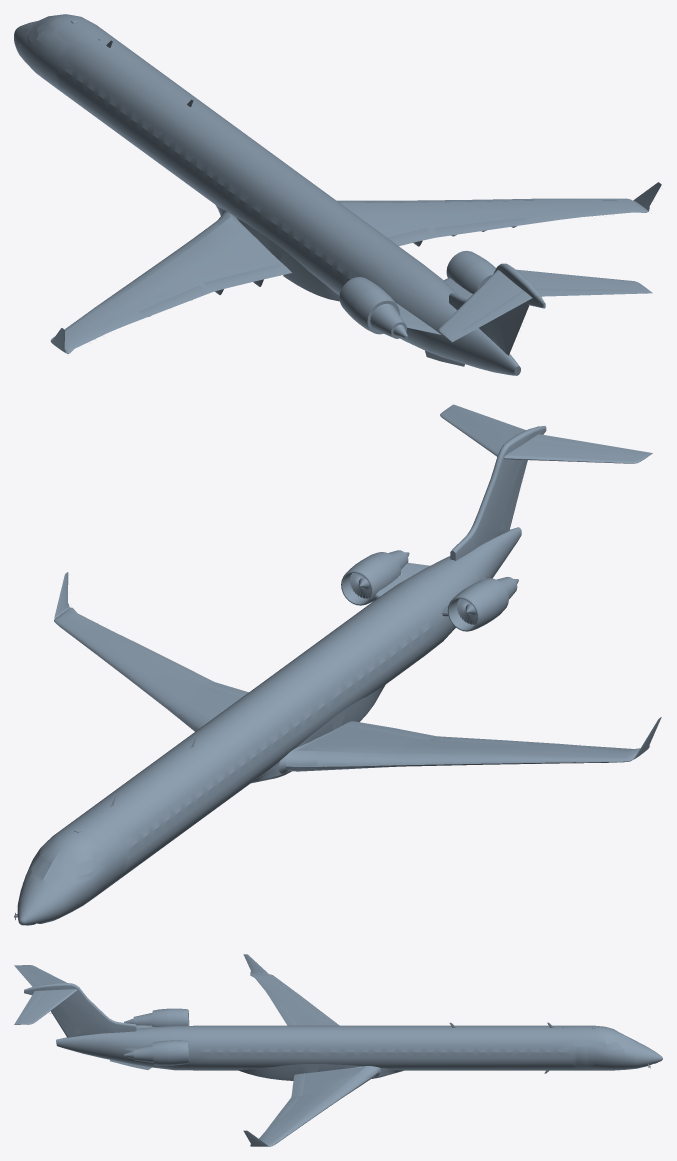
The model's file is CRJ1000.glb.
3 renders of one model, top to bottom at view 1: azimuth 30°, elevation 25°; view 2: azimuth 150°, elevation 25°; view 3: azimuth 270°, elevation 25°, orthographic. The views are drawn at different scales.
Size of the model in its own units: 25.16 by 6.09 by 39.08.
